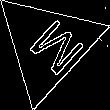M_SW: (14, 11, 81, 79)
